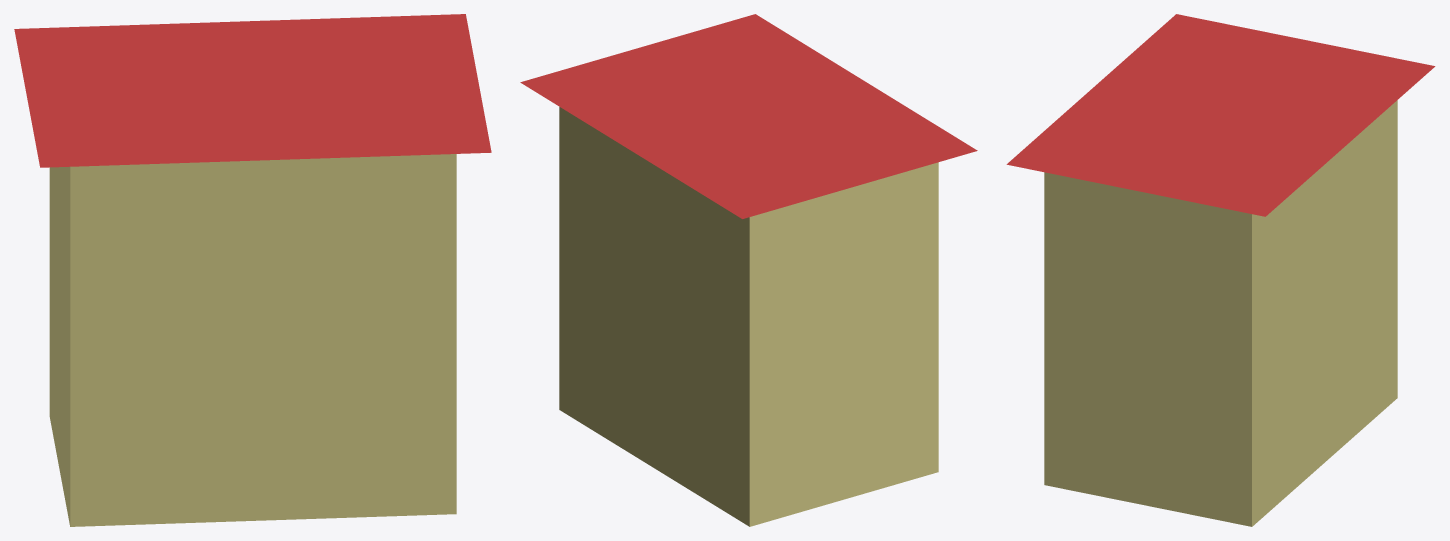
The picture shows the model from 3 angles, left to right: view 1: azimuth 30°, elevation 25°; view 2: azimuth 150°, elevation 25°; view 3: azimuth 270°, elevation 25°; orthographic projection. The views are drawn at different scales.
Visible parts, largest first — view 1: group_5, group_3, group_4; view 2: group_5, group_3, group_4; view 3: group_5, group_3, group_4.
Part boxes in pixels (x1,y1,x2,y2): group_5: (49,154,456,526); group_3: (14,14,491,167); group_4: (14,14,491,167); group_5: (559,107,938,526); group_3: (520,14,977,218); group_4: (522,14,975,218); group_5: (1044,100,1397,526); group_3: (1006,14,1434,216); group_4: (1008,14,1434,216).
Size of the model in its own units: 8.42 by 7.53 by 6.32.
